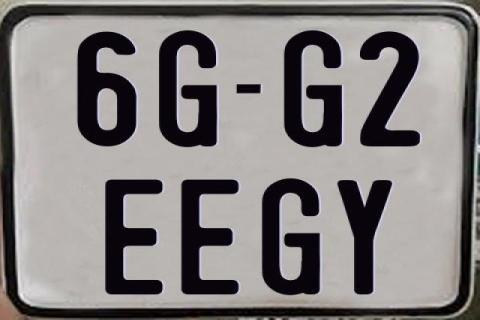0: (358, 29, 423, 145), (75, 29, 140, 144)
E: (181, 178, 245, 294), (102, 177, 161, 293)
G: (157, 29, 219, 150), (261, 177, 324, 295), (283, 28, 342, 146)
Y: (334, 179, 395, 299)
